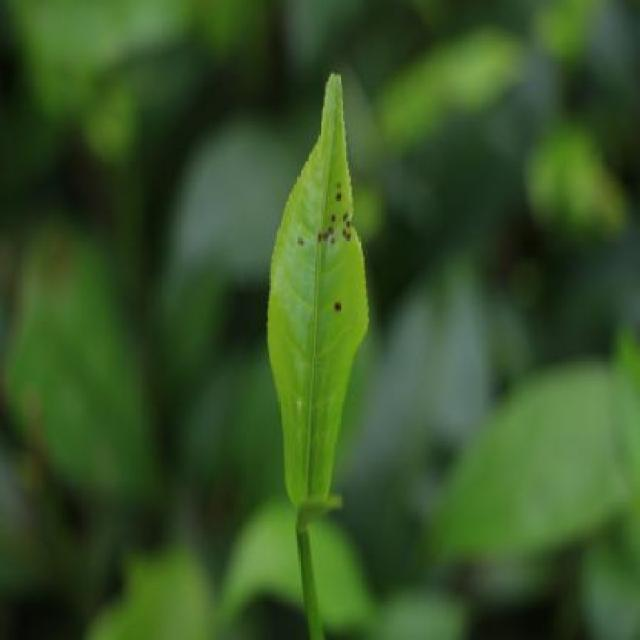Tea Mosquito bug infested leaf: (266, 72, 369, 550)
